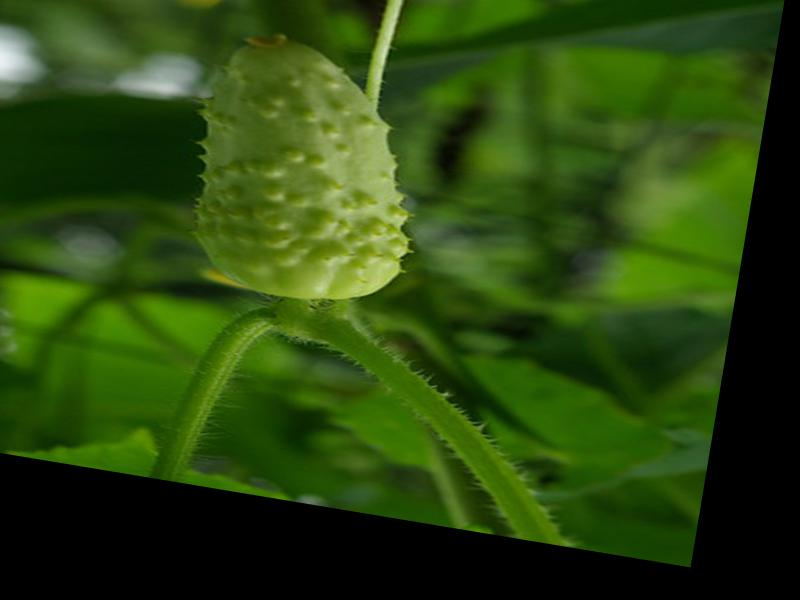Cucumber: (179, 22, 441, 316)
